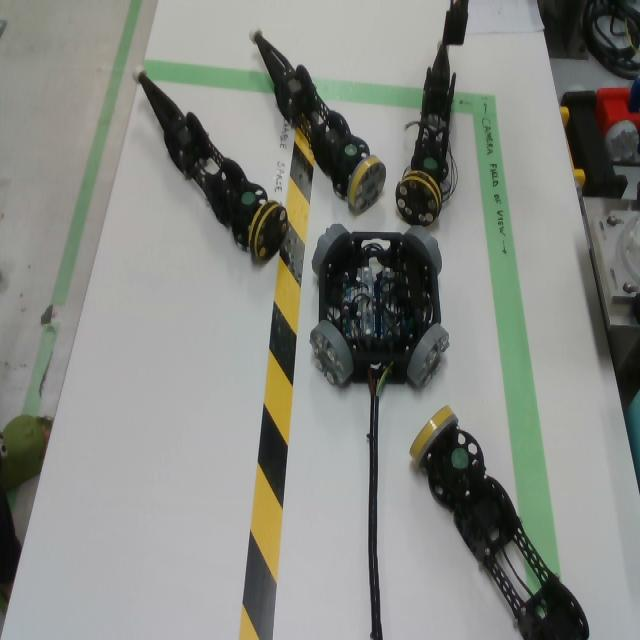body: (319, 232, 441, 385)
body_connector: (309, 320, 354, 387), (407, 324, 451, 391), (312, 224, 350, 276), (404, 225, 442, 275)
leg: (408, 405, 589, 640), (130, 64, 288, 263), (248, 23, 386, 215), (395, 35, 457, 227)
leg_connector: (409, 405, 459, 469), (396, 171, 443, 227), (248, 200, 288, 261), (347, 155, 386, 216)
leg_marker: (451, 448, 469, 469), (241, 192, 256, 205), (423, 157, 438, 169), (344, 144, 357, 157)
